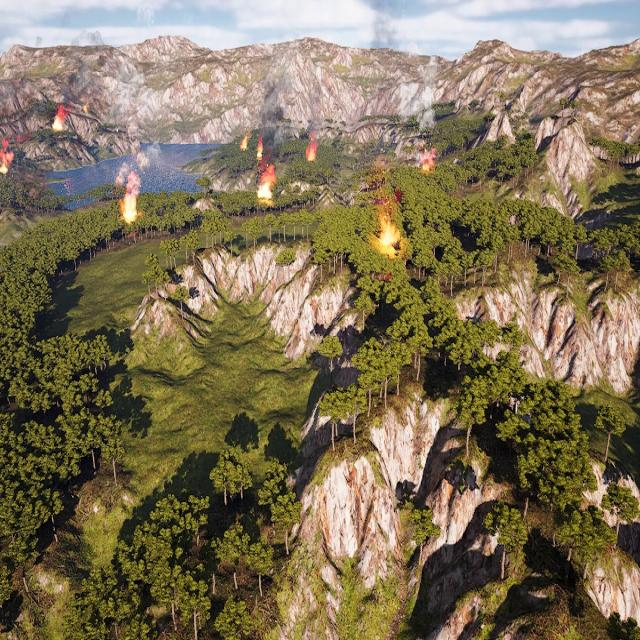fire: (380, 221, 404, 256), (122, 199, 139, 227), (422, 152, 438, 174), (259, 177, 273, 201), (306, 146, 319, 164), (54, 116, 64, 134), (257, 139, 264, 164), (0, 157, 8, 173), (243, 136, 250, 154)
smoke: (113, 132, 164, 197), (264, 82, 287, 156)
